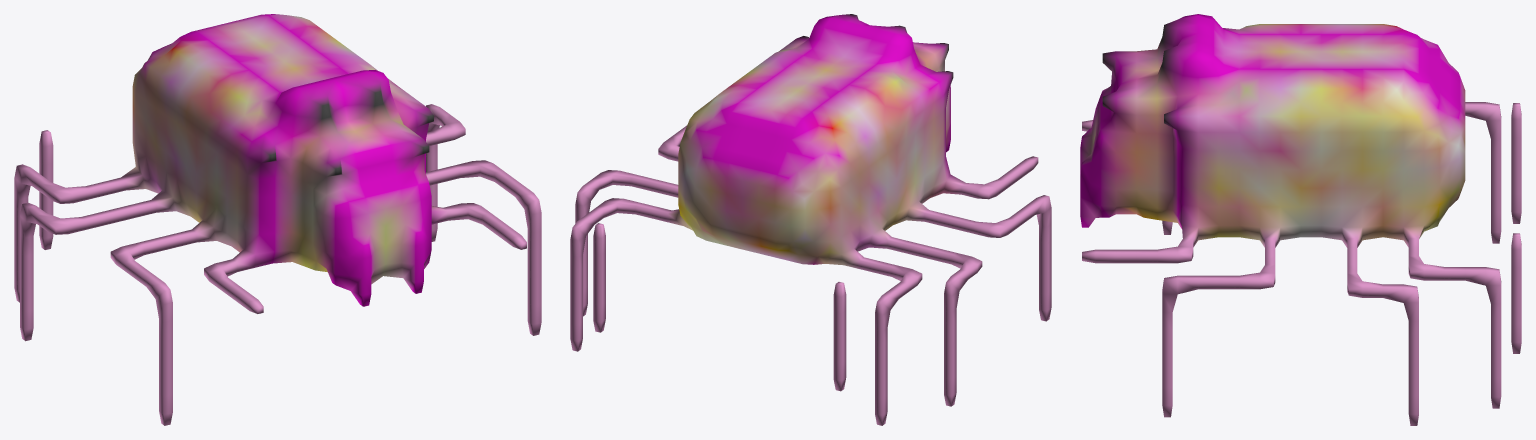
3 views of the same model, side by side, from view 1: azimuth 30°, elevation 25°; view 2: azimuth 150°, elevation 25°; view 3: azimuth 270°, elevation 25° (orthographic). The views are drawn at different scales.
Bounding box in the file's own units: 1.18 × 0.7833 × 1.08.
